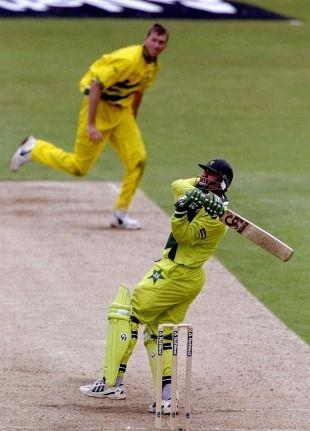batsman: (131, 143, 248, 382)
